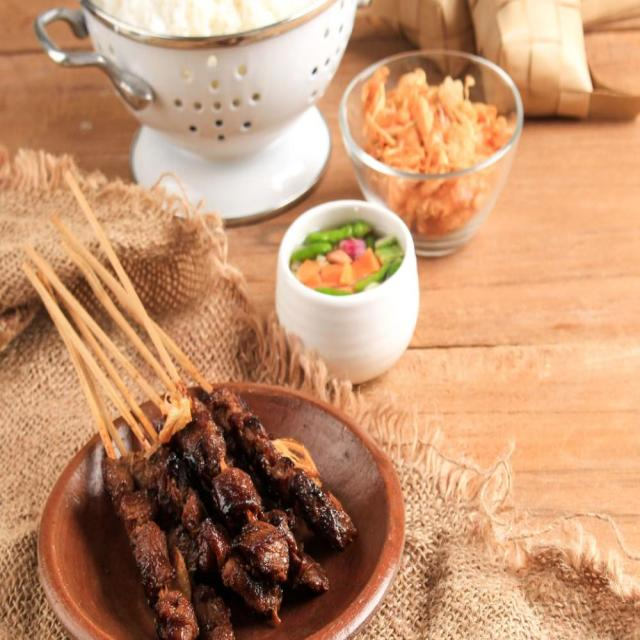Sate: (20, 200, 357, 633)
